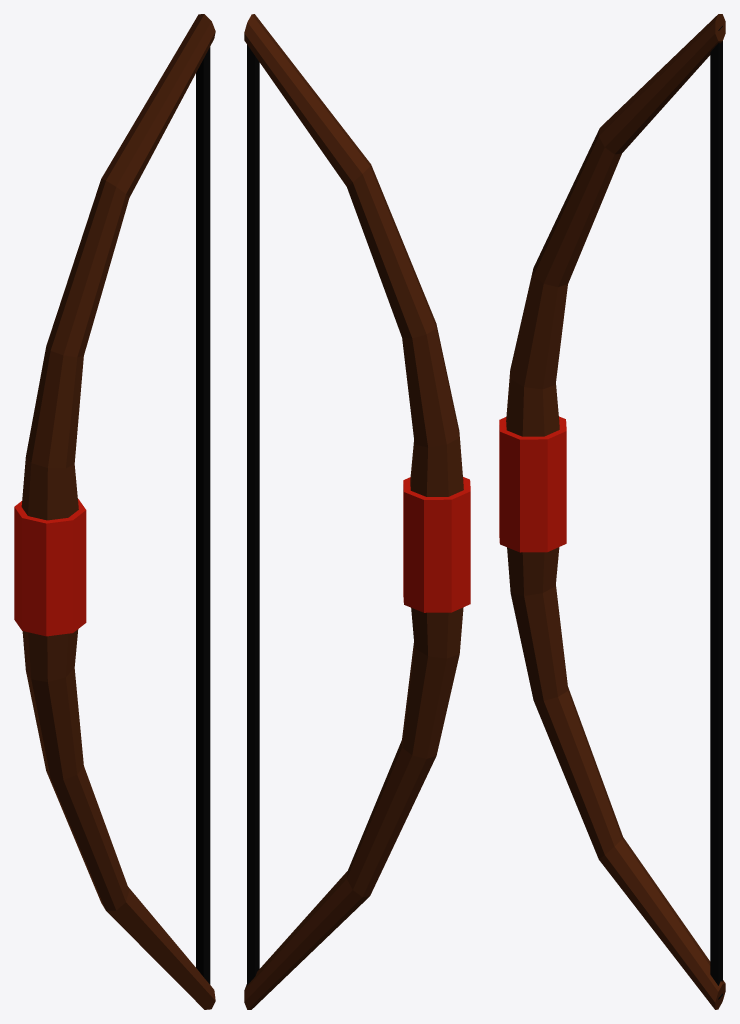
File: Bow.fbx
The picture shows the model from 3 angles, left to right: view 1: azimuth 30°, elevation 25°; view 2: azimuth 150°, elevation 25°; view 3: azimuth 330°, elevation 25°; orthographic projection.
Visible parts, largest first — view 1: Bow; view 2: Bow; view 3: Bow.
Part boxes in pixels (x1=…): Bow: x1=14, y1=14, x2=215, y2=1009; Bow: x1=244, y1=14, x2=470, y2=1009; Bow: x1=499, y1=14, x2=725, y2=1009.
Bounding box in the file's own units: 320 × 1480 × 110.
